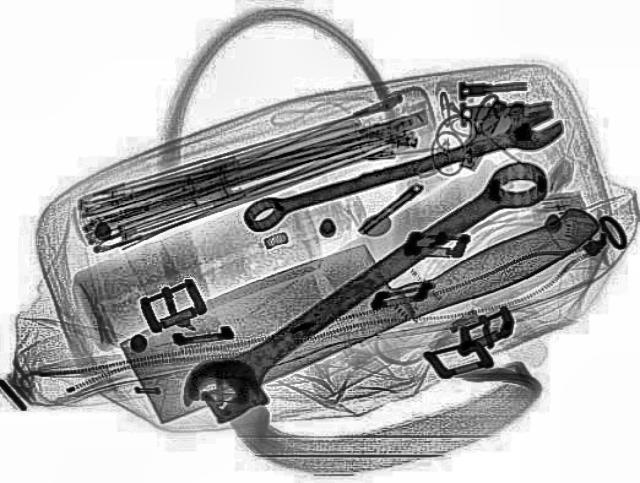Knife: (93, 160, 613, 426)
Wrench: (164, 142, 566, 430), (230, 102, 572, 236)
